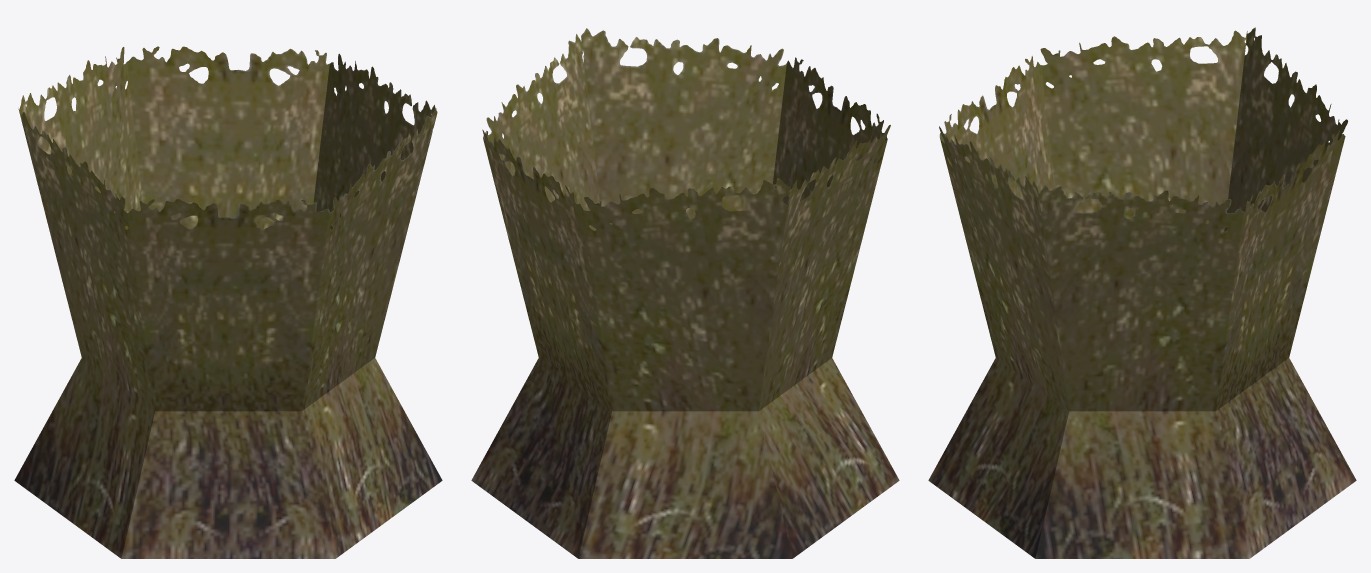
File: WildGrass.fbx
3 renders of one model, left to right at view 1: azimuth 30°, elevation 25°; view 2: azimuth 150°, elevation 25°; view 3: azimuth 270°, elevation 25°, orthographic.
Parts seen in each view (by area): view 1: WildGrass1; view 2: WildGrass1; view 3: WildGrass1.
Part boxes in pixels (<box>): WildGrass1: <box>14,46,442,558</box>; WildGrass1: <box>471,28,899,558</box>; WildGrass1: <box>928,27,1356,558</box>.
Size of the model in its own units: 638 by 736 by 736.
